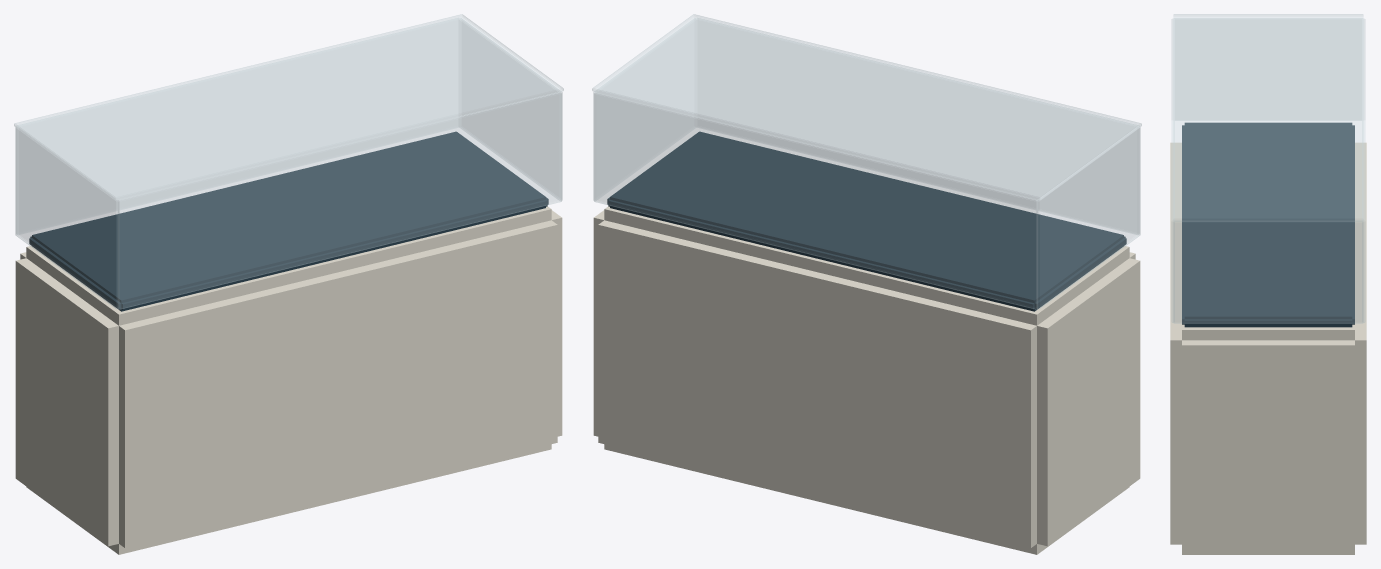
Rendered from fixture_v24_jewellery_case.glb.
3 views of the same model, side by side, from view 1: azimuth 30°, elevation 25°; view 2: azimuth 150°, elevation 25°; view 3: azimuth 270°, elevation 25° (orthographic). The views are drawn at different scales.
Parts seen in each view (by area): view 1: fixture_v24_jewellery_case_V24_warm_ceramic, fixture_v24_jewellery_case_V24_display_glass, fixture_v24_jewellery_case_V24_velvet_blue; view 2: fixture_v24_jewellery_case_V24_warm_ceramic, fixture_v24_jewellery_case_V24_display_glass, fixture_v24_jewellery_case_V24_velvet_blue; view 3: fixture_v24_jewellery_case_V24_display_glass, fixture_v24_jewellery_case_V24_warm_ceramic, fixture_v24_jewellery_case_V24_velvet_blue.
Boxes of the visible parts, left/top/right/bottom form: fixture_v24_jewellery_case_V24_warm_ceramic: left=15, top=206, right=562, bottom=554; fixture_v24_jewellery_case_V24_display_glass: left=14, top=14, right=563, bottom=309; fixture_v24_jewellery_case_V24_velvet_blue: left=29, top=131, right=548, bottom=311; fixture_v24_jewellery_case_V24_warm_ceramic: left=593, top=206, right=1140, bottom=554; fixture_v24_jewellery_case_V24_display_glass: left=592, top=14, right=1141, bottom=309; fixture_v24_jewellery_case_V24_velvet_blue: left=607, top=131, right=1126, bottom=311; fixture_v24_jewellery_case_V24_display_glass: left=1171, top=14, right=1365, bottom=323; fixture_v24_jewellery_case_V24_warm_ceramic: left=1170, top=142, right=1366, bottom=554; fixture_v24_jewellery_case_V24_velvet_blue: left=1182, top=122, right=1354, bottom=327.
Bounding box in the file's own units: 1.7 × 1.3 × 0.68.
